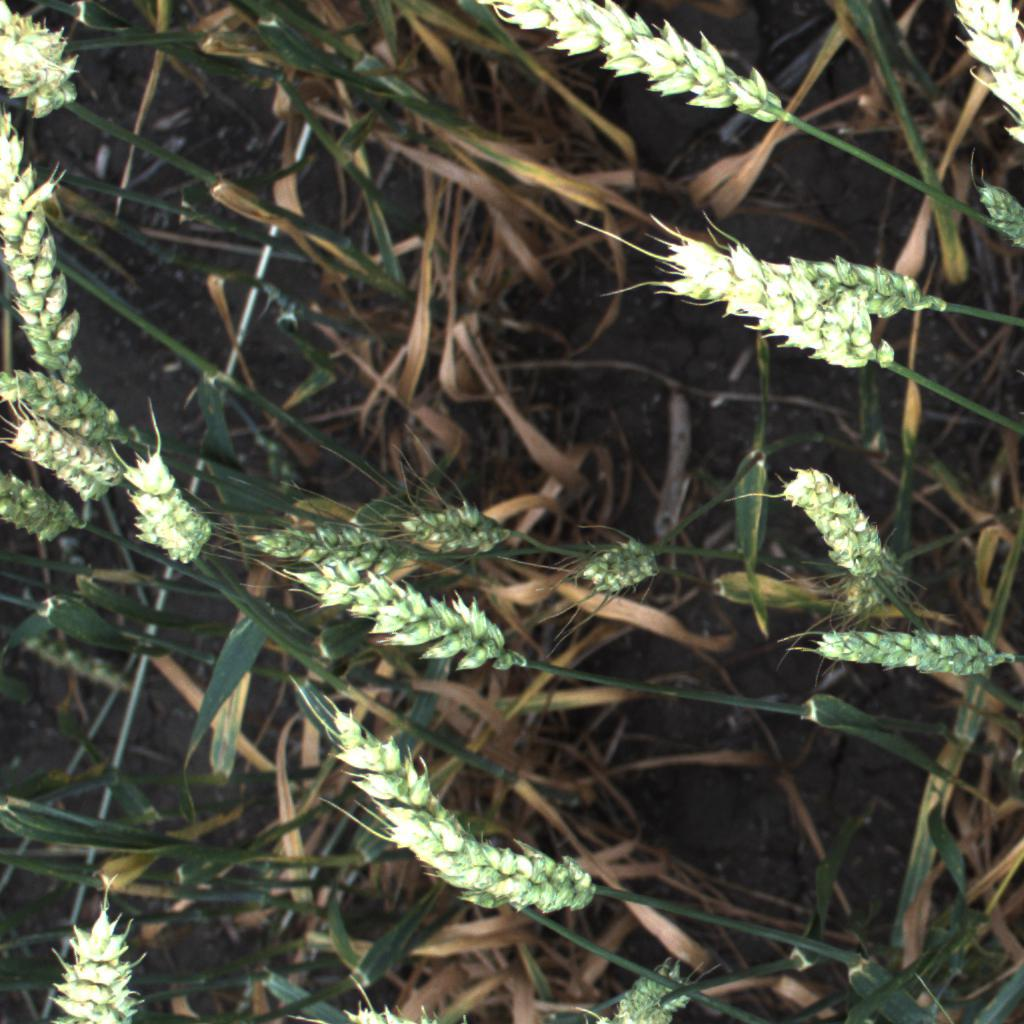0-0: (462, 0, 811, 140), (643, 226, 906, 383), (316, 694, 523, 885), (272, 544, 536, 687), (0, 107, 86, 392), (39, 868, 159, 1024), (767, 455, 903, 589), (422, 818, 597, 917), (741, 247, 962, 324), (808, 613, 1012, 689), (0, 404, 134, 514), (940, 0, 1024, 153), (0, 362, 141, 451), (0, 0, 95, 118), (129, 454, 223, 568), (394, 485, 528, 560), (247, 509, 402, 572), (599, 946, 714, 1024), (0, 464, 93, 554), (968, 163, 1024, 252), (578, 538, 665, 586), (839, 584, 881, 614)
